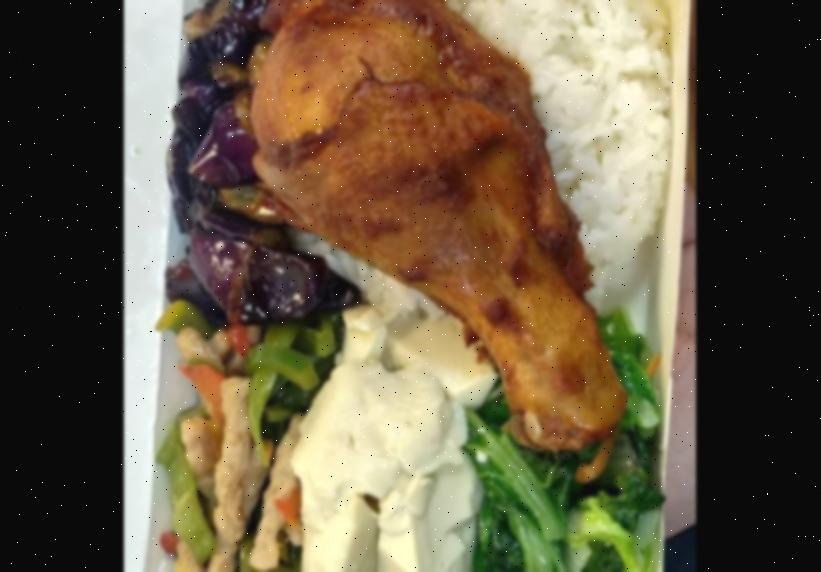big grilled chicken leg: (136, 0, 696, 572)
big herbal chicken leg: (285, 0, 670, 329)
braised fish fillet: (159, 0, 309, 321), (303, 314, 477, 572), (462, 338, 652, 572), (147, 303, 311, 572)
braised pork: (250, 0, 626, 450)
